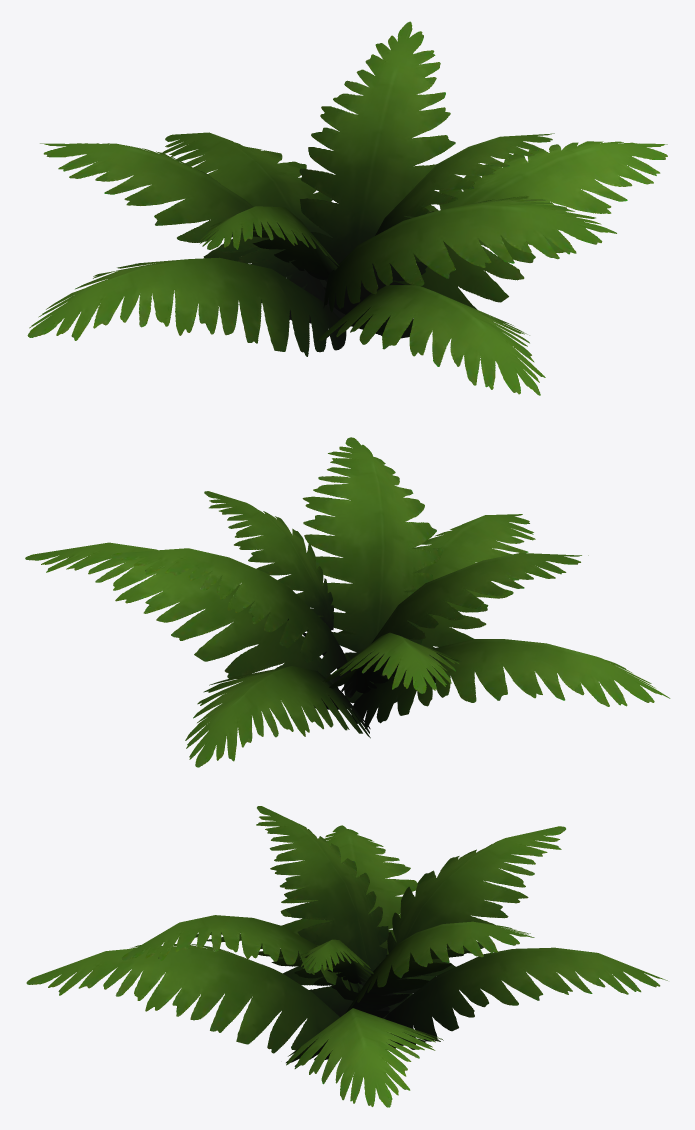
Rendered from fern.glb.
3 renders of one model, top to bottom at view 1: azimuth 30°, elevation 25°; view 2: azimuth 150°, elevation 25°; view 3: azimuth 270°, elevation 25°, orthographic. The views are drawn at different scales.
Parts seen in each view (by area): view 1: Fern_1; view 2: Fern_1; view 3: Fern_1.
Boxes of the visible parts, <box> form: Fern_1: <box>27,21,667,395</box>; Fern_1: <box>25,437,670,767</box>; Fern_1: <box>26,806,667,1107</box>.
Bounding box in the file's own units: 2.83 × 0.8402 × 2.65.
Materials: 1 (1 with a texture image).
